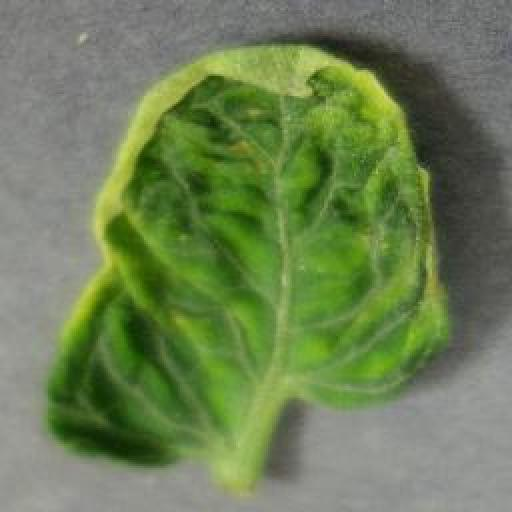disease_tomato: (44, 42, 448, 470)
